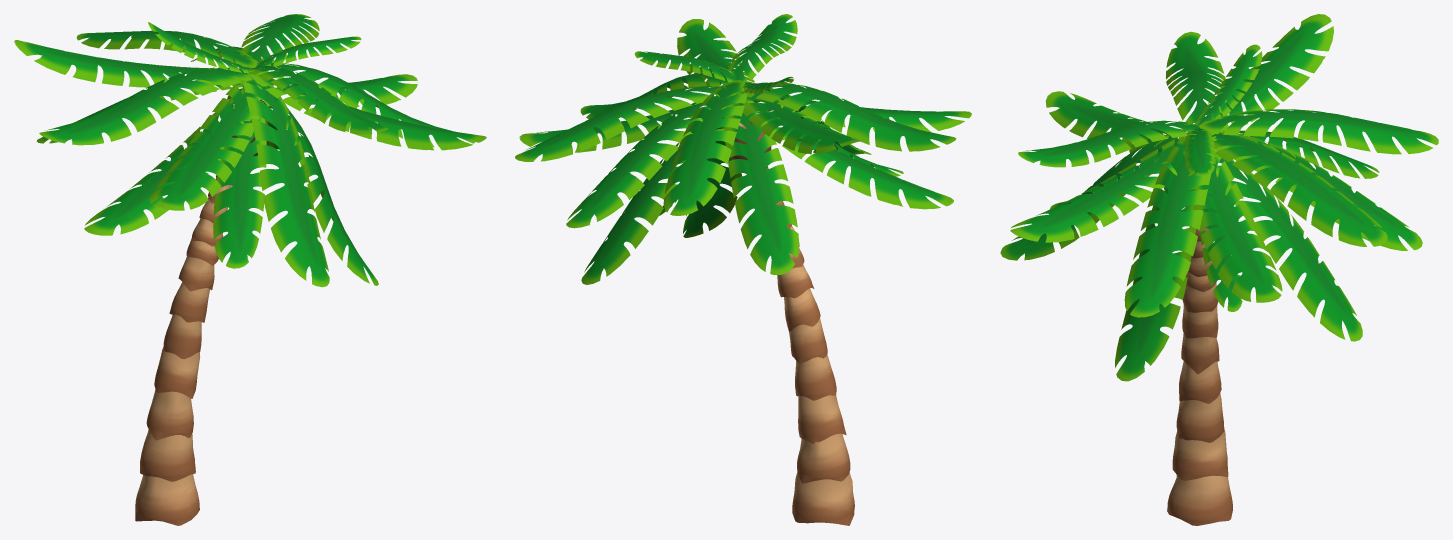
Rendered from PalmTree1.fbx.
The picture shows the model from 3 angles, left to right: view 1: azimuth 30°, elevation 25°; view 2: azimuth 150°, elevation 25°; view 3: azimuth 270°, elevation 25°; orthographic projection. The views are drawn at different scales.
Visible parts, largest first — view 1: PalmTree3; view 2: PalmTree3; view 3: PalmTree3.
Boxes of the visible parts, left/top/right/bottom form: PalmTree3: left=14, top=14, right=486, bottom=525; PalmTree3: left=515, top=14, right=971, bottom=525; PalmTree3: left=1000, top=14, right=1438, bottom=525.
Bounding box in the file's own units: 5.18 × 5.68 × 4.75.
